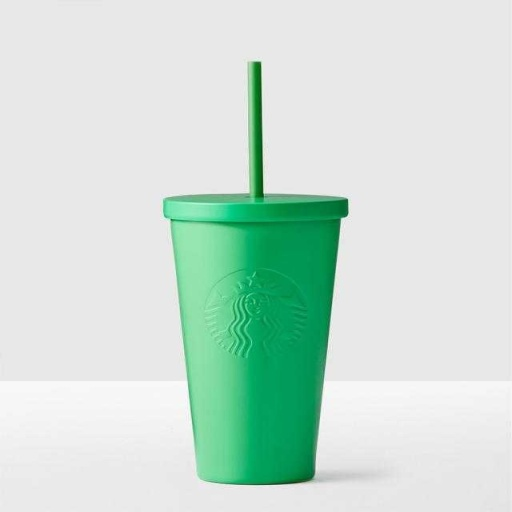cup: (164, 192, 348, 485)
